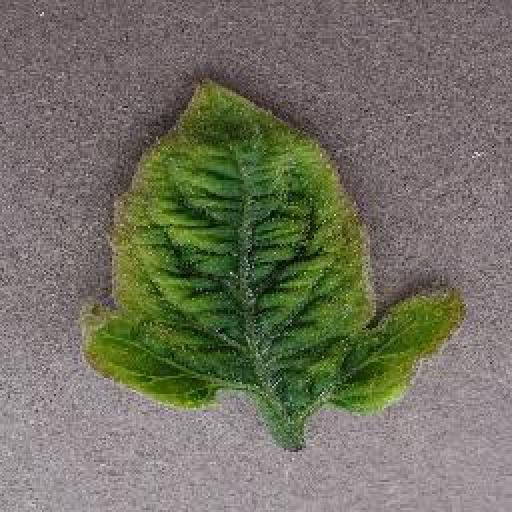Yellow Leaf Curl Virus: (83, 76, 468, 417)
